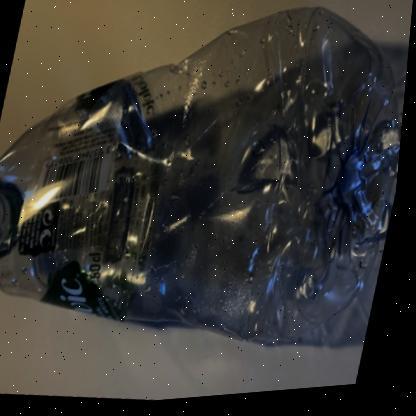Plastic: (0, 12, 410, 353)
